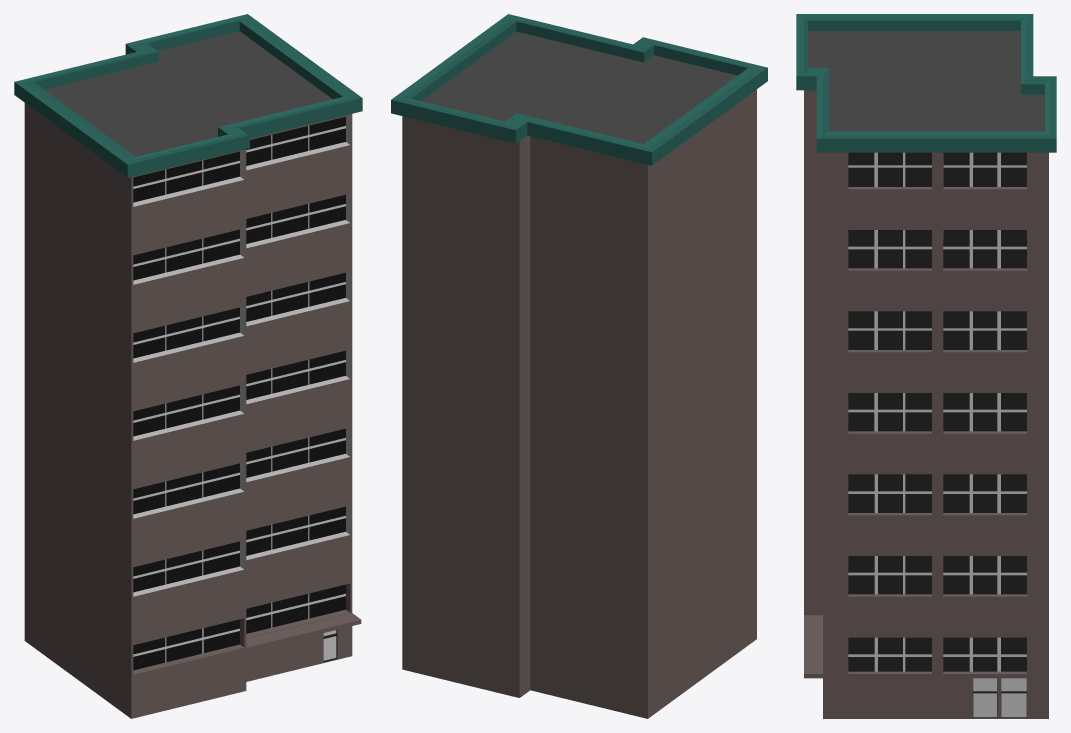
The model's file is apt-2.glb.
The picture shows the model from 3 angles, left to right: view 1: azimuth 30°, elevation 25°; view 2: azimuth 150°, elevation 25°; view 3: azimuth 270°, elevation 25°; orthographic projection. The views are drawn at different scales.
Size of the model in its own units: 1.97 by 4.31 by 1.74.
